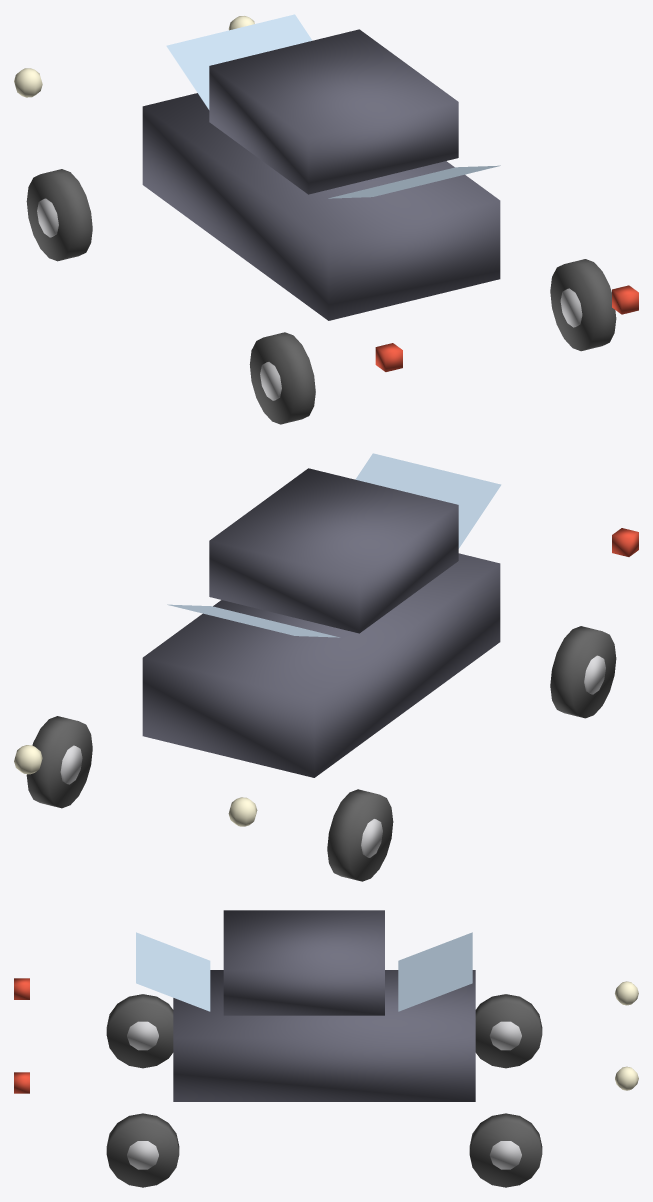
File: mesh_police_car.fbx
3 renders of one model, top to bottom at view 1: azimuth 30°, elevation 25°; view 2: azimuth 150°, elevation 25°; view 3: azimuth 270°, elevation 25°, orthographic. The views are drawn at different scales.
Visible parts, largest first — view 1: mesh_police_car; view 2: mesh_police_car; view 3: mesh_police_car.
Part boxes in pixels (x1,y1,x2,y2): mesh_police_car: (14,14,638,424); mesh_police_car: (14,453,638,881); mesh_police_car: (14,910,638,1187).
Size of the model in its own units: 1.52 by 1.01 by 3.1.
